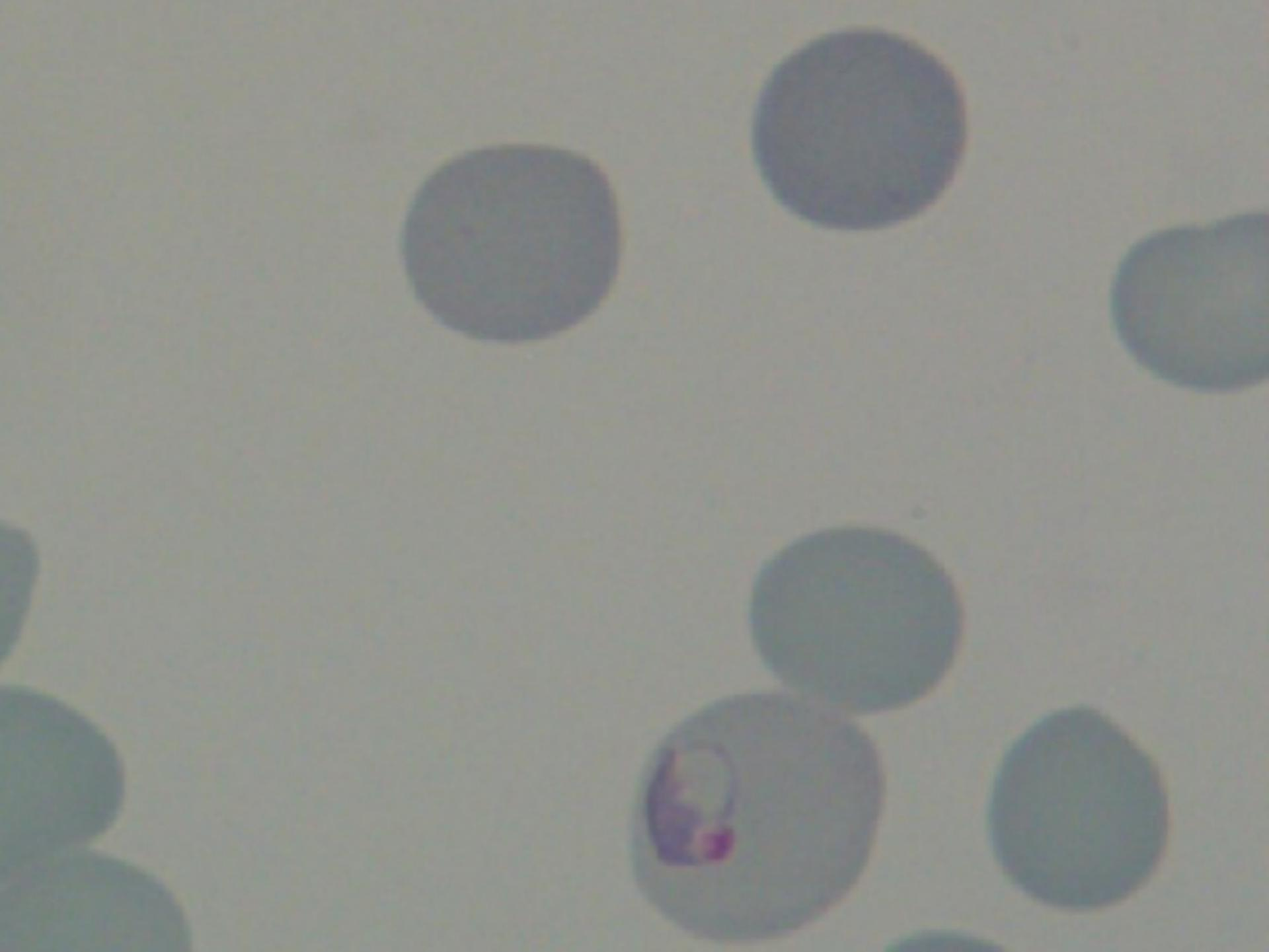Infected: (383, 10, 640, 259)
Uninfected: (646, 604, 865, 810), (300, 719, 514, 918), (306, 241, 520, 426), (101, 38, 282, 242), (0, 553, 159, 751)
